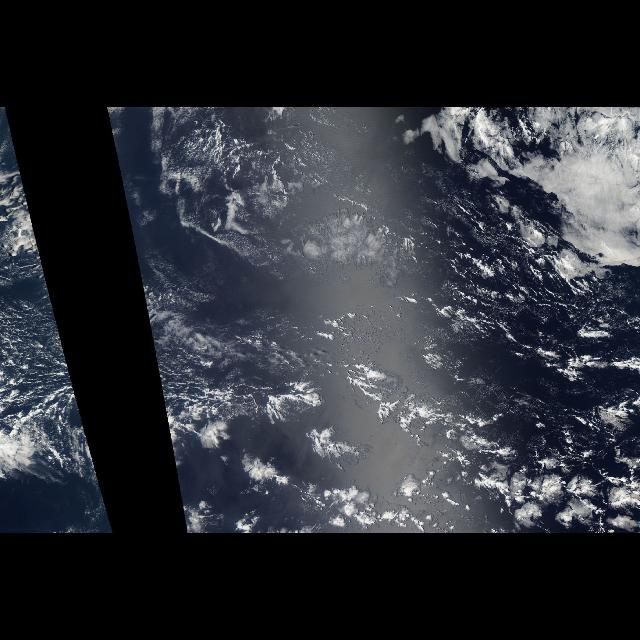Flower: (182, 380, 640, 532), (402, 108, 640, 272)
Gravel: (144, 307, 316, 439), (156, 110, 332, 220), (0, 307, 90, 439)
